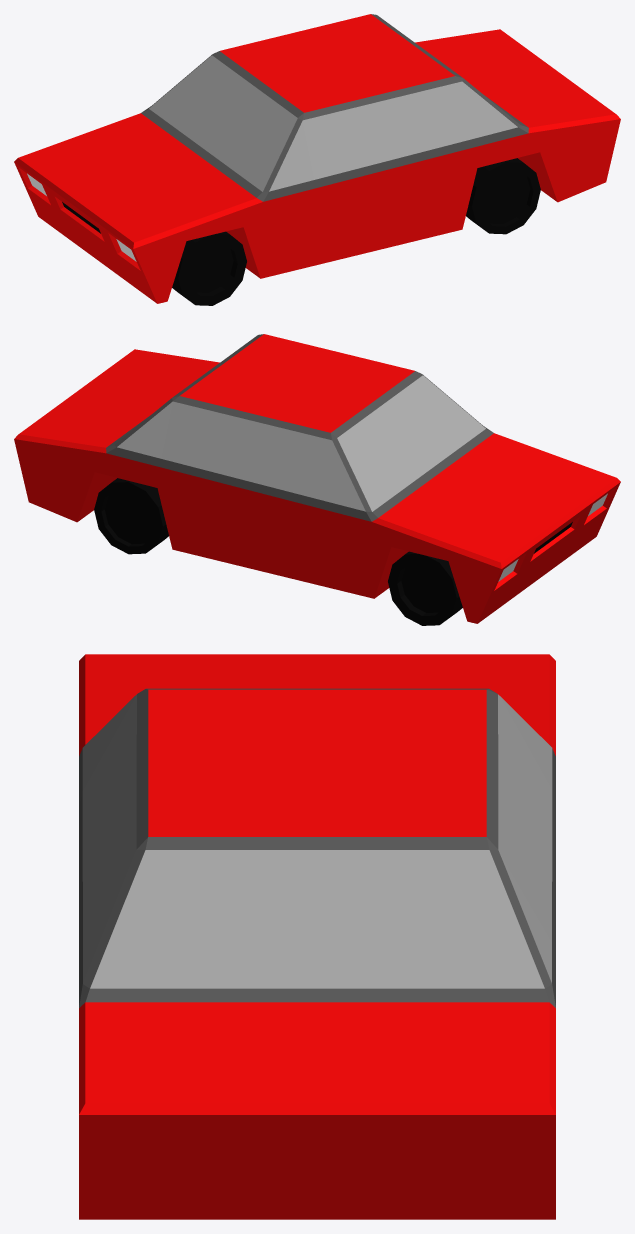
File: Car2.fbx
3 views of the same model, one above another, from view 1: azimuth 30°, elevation 25°; view 2: azimuth 150°, elevation 25°; view 3: azimuth 270°, elevation 25° (orthographic). The views are drawn at different scales.
Parts seen in each view (by area): view 1: Car2; view 2: Car2; view 3: Car2.
Part boxes in pixels (box(x1,y1,x2,y2)): Car2: box(14, 14, 620, 305); Car2: box(14, 334, 620, 625); Car2: box(79, 654, 555, 1219).
Bounding box in the file's own units: 266 × 81.6 × 113.
